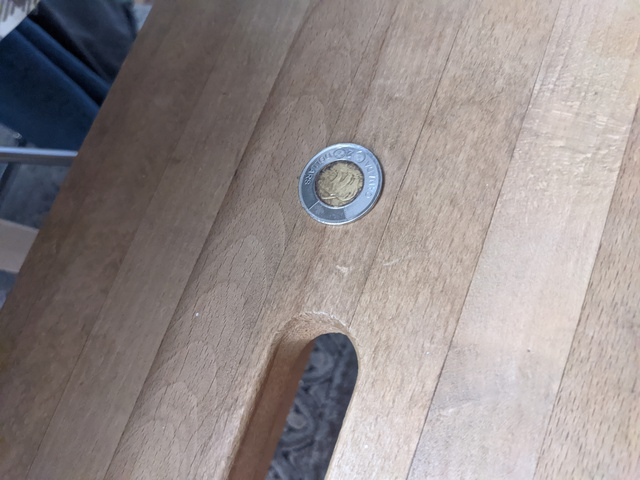twonie: (289, 137, 387, 222)
